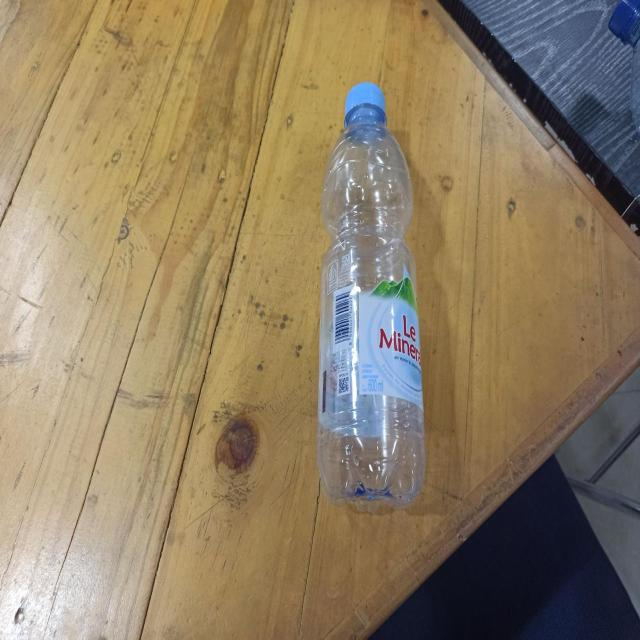BotolPlastik: (315, 80, 426, 510)
